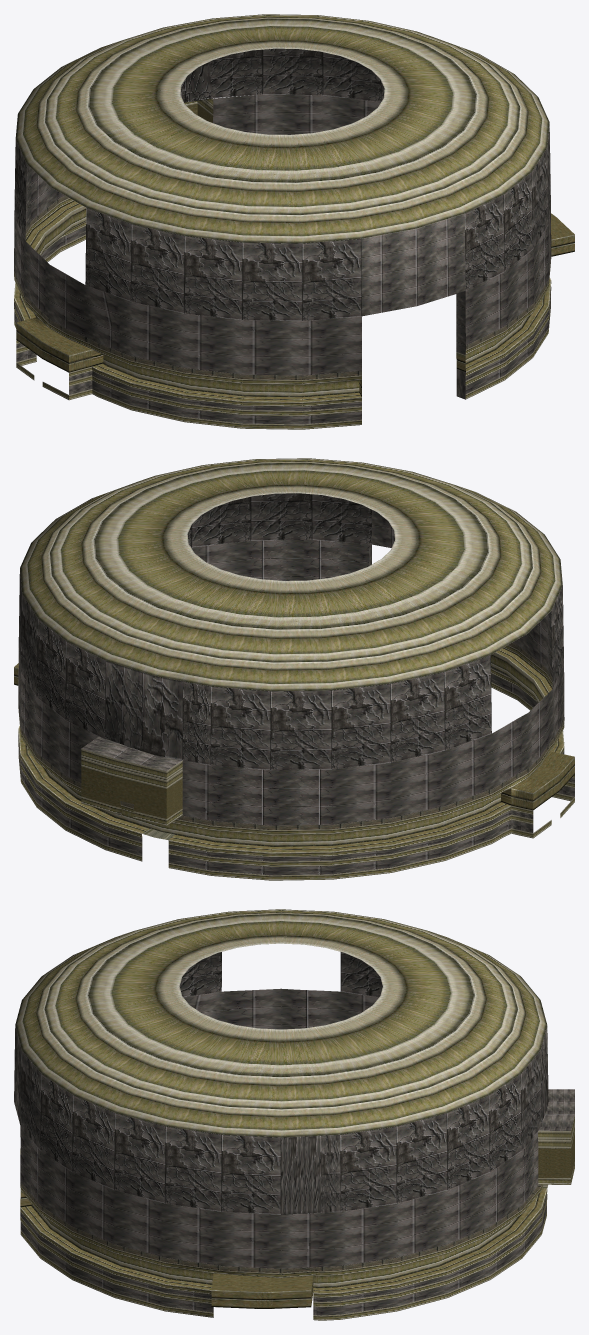
File: CH09_SMAUG_PLAYSURFACE_LAIR70.fbx
3 views of the same model, one above another, from view 1: azimuth 30°, elevation 25°; view 2: azimuth 150°, elevation 25°; view 3: azimuth 270°, elevation 25° (orthographic). The views are drawn at different scales.
Parts seen in each view (by area): view 1: CH09_SMAUG_PLAYSURFACE_LAIR70; view 2: CH09_SMAUG_PLAYSURFACE_LAIR70; view 3: CH09_SMAUG_PLAYSURFACE_LAIR70.
Part boxes in pixels (<box>): CH09_SMAUG_PLAYSURFACE_LAIR70: <box>14,14,574,429</box>; CH09_SMAUG_PLAYSURFACE_LAIR70: <box>14,458,574,880</box>; CH09_SMAUG_PLAYSURFACE_LAIR70: <box>14,909,574,1320</box>.
Bounding box in the file's own units: 780462 × 326814 × 743398.
7 materials, 7 textured.
